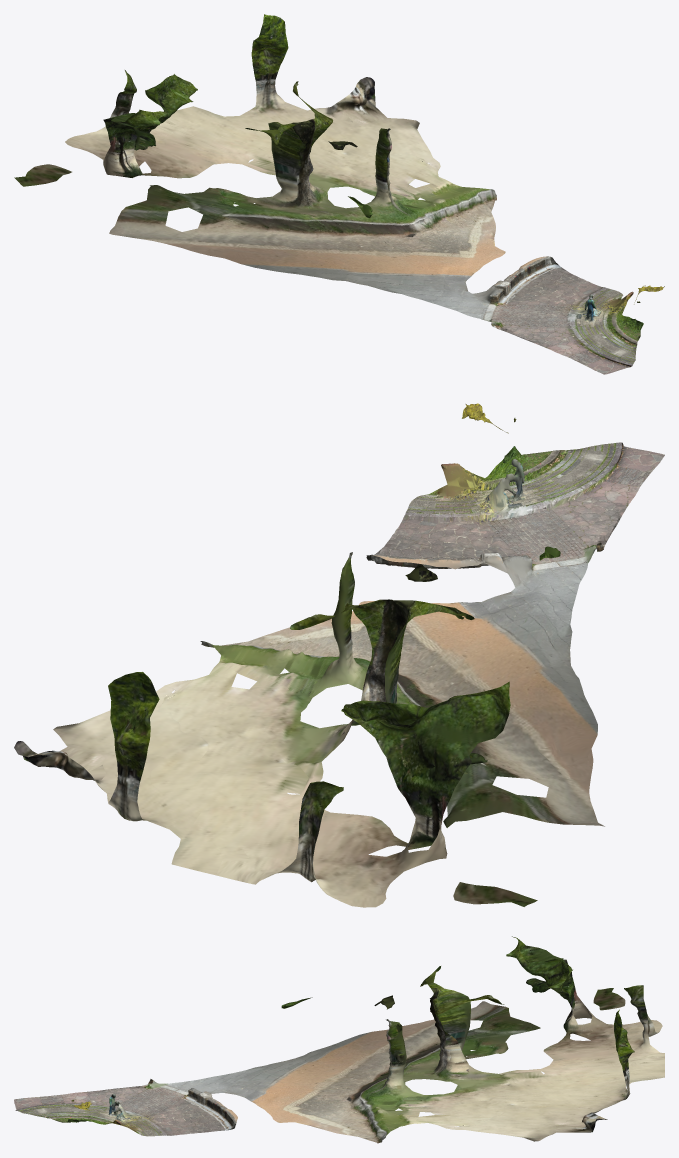
3 views of the same model, one above another, from view 1: azimuth 30°, elevation 25°; view 2: azimuth 150°, elevation 25°; view 3: azimuth 270°, elevation 25° (orthographic). The views are drawn at different scales.
Parts seen in each view (by area): view 1: baked_mesh_0e29cb33; view 2: baked_mesh_0e29cb33; view 3: baked_mesh_0e29cb33.
Part boxes in pixels (x1,y1,x2,y2): baked_mesh_0e29cb33: (14, 14, 664, 374); baked_mesh_0e29cb33: (14, 403, 664, 907); baked_mesh_0e29cb33: (14, 936, 664, 1143).
Bounding box in the file's own units: 15.34 × 4.39 × 27.42.
1 material, 1 textured.
